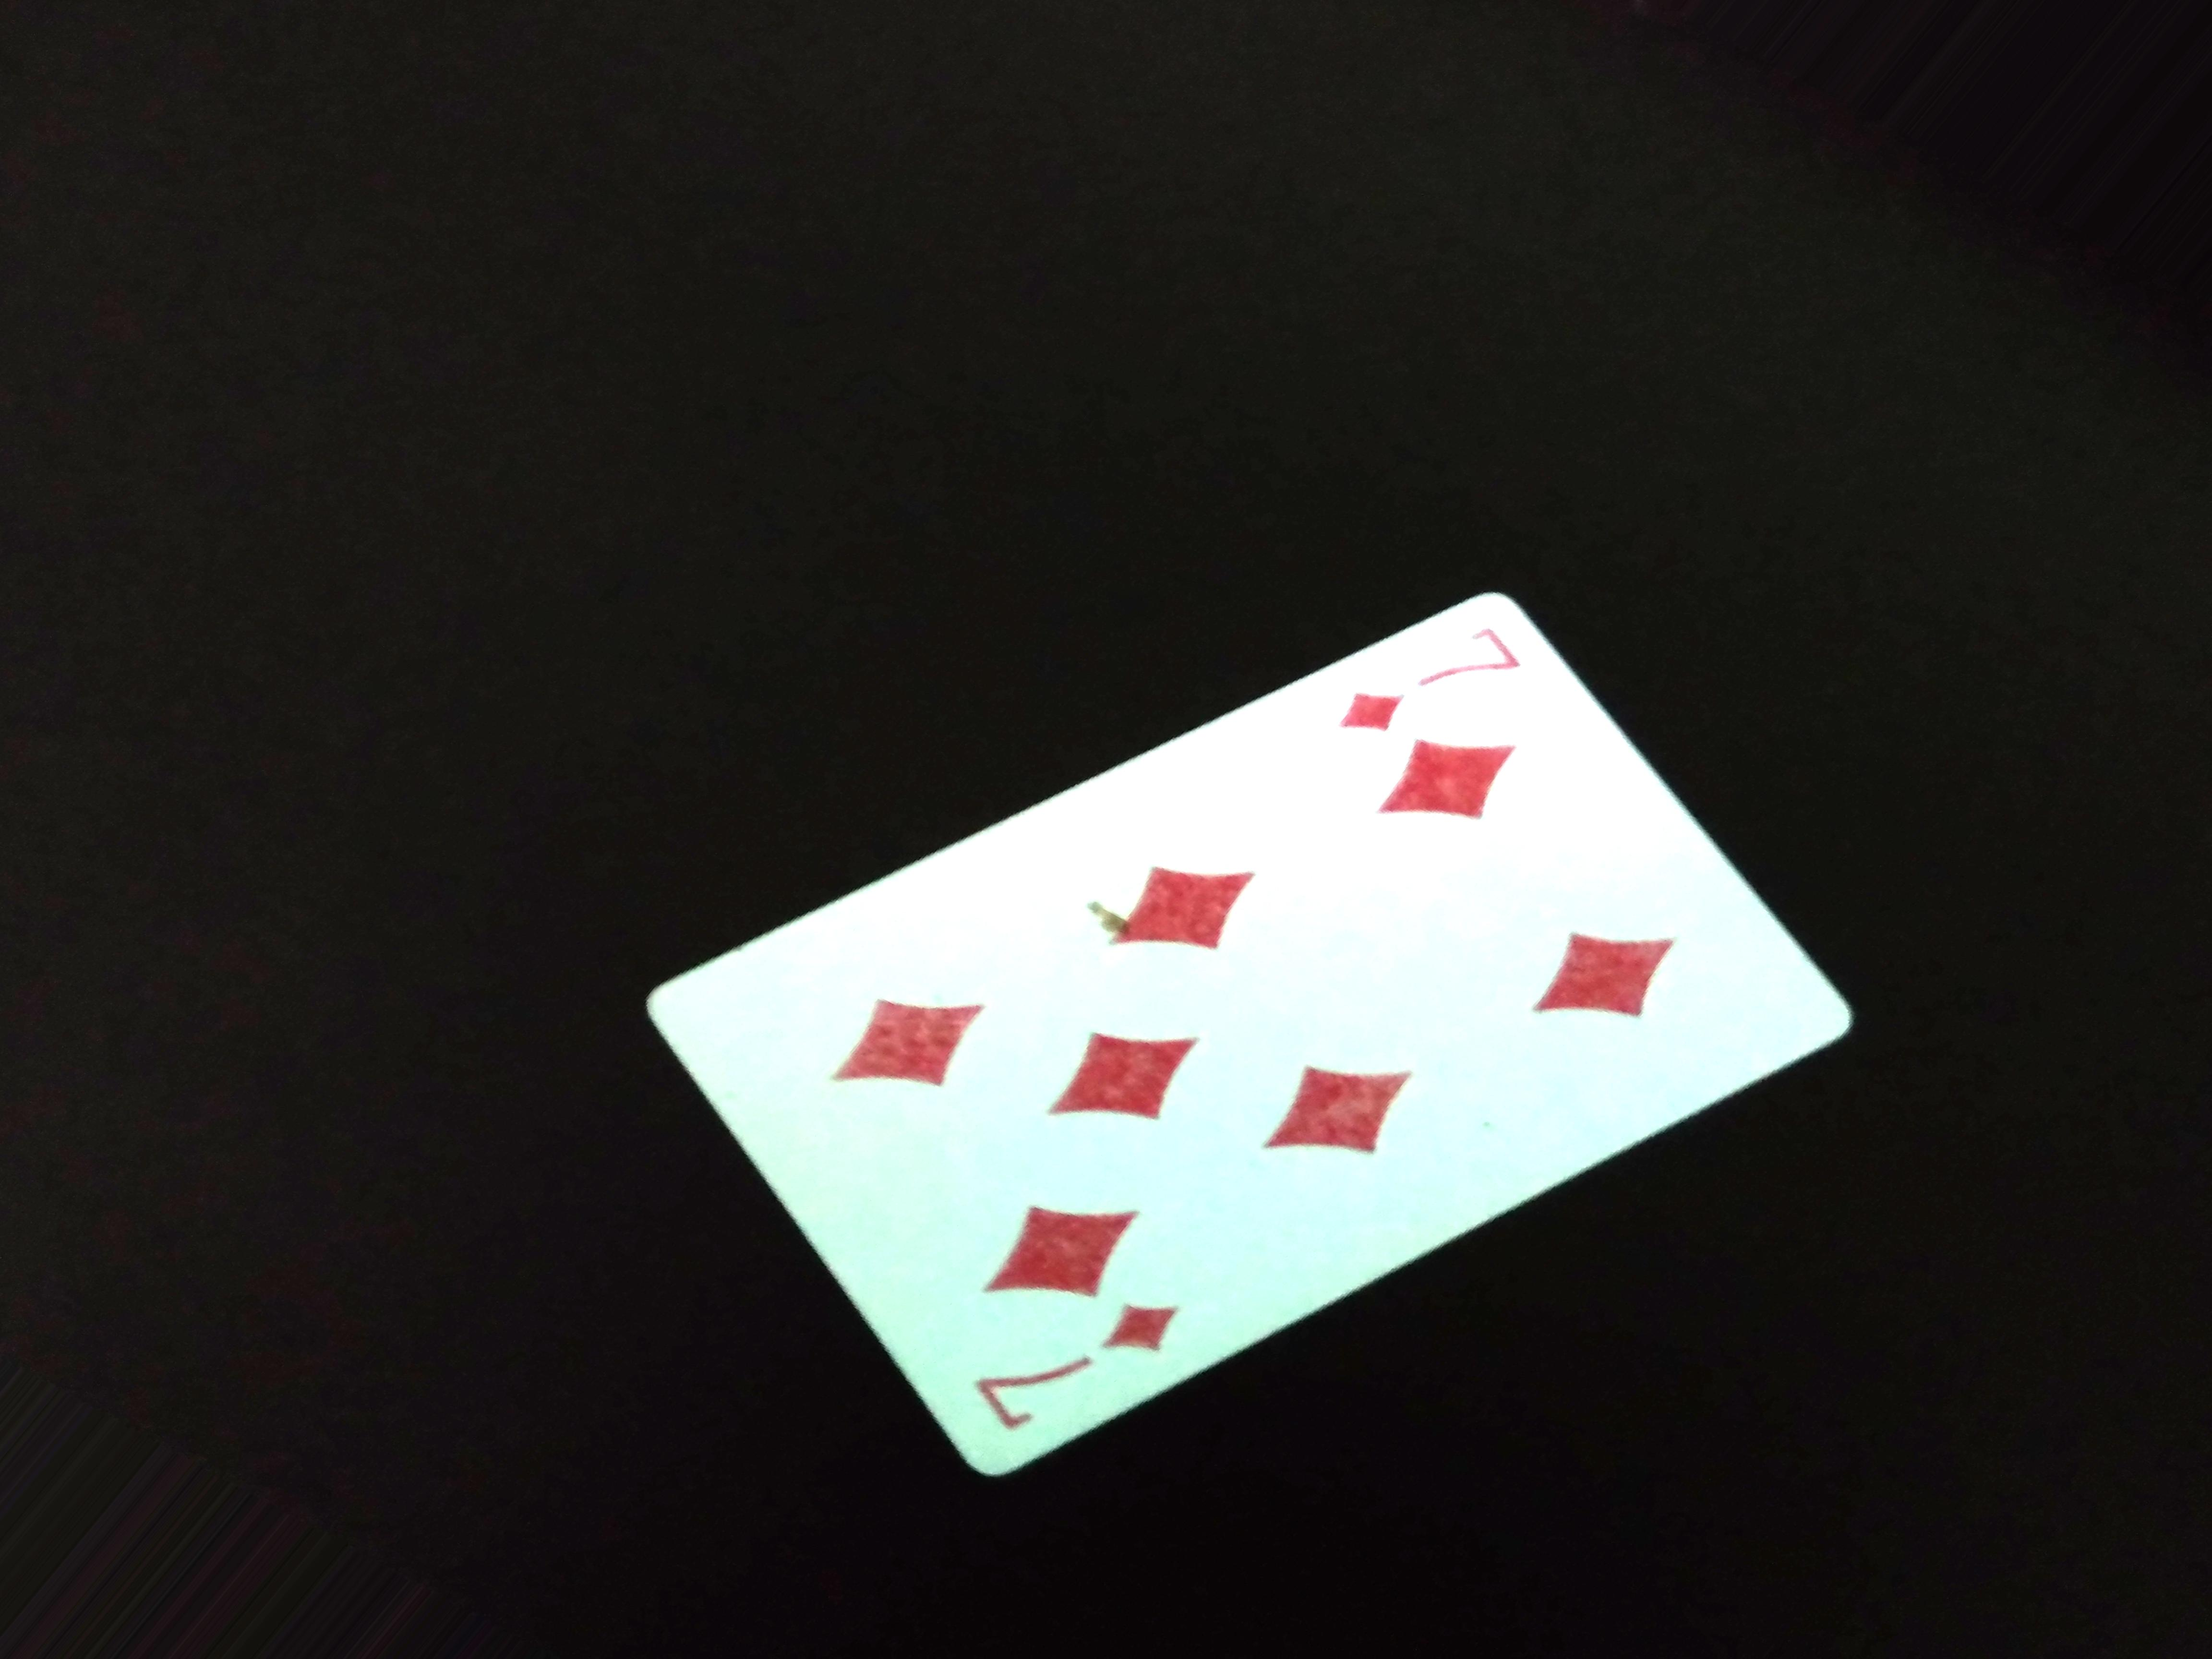7D: (979, 1302, 1191, 1424)
